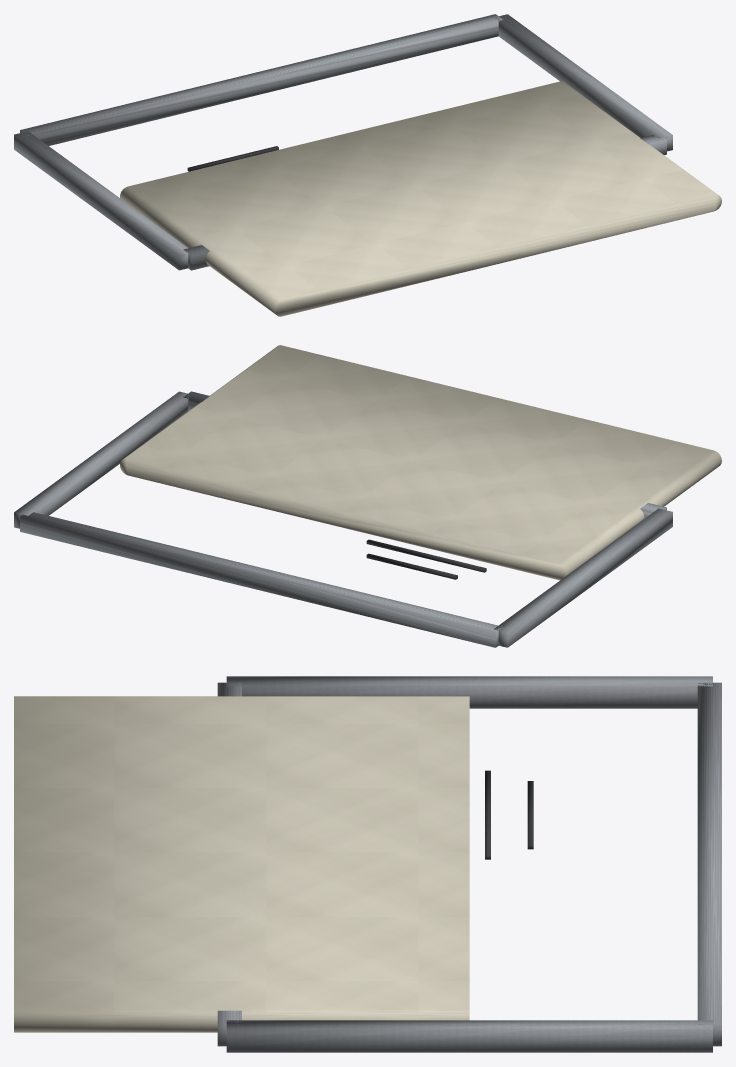
The model's file is MEETING_WHITEBOARD_WALL_001.glb.
3 renders of one model, top to bottom at view 1: azimuth 30°, elevation 25°; view 2: azimuth 150°, elevation 25°; view 3: azimuth 270°, elevation 25°, orthographic. The views are drawn at different scales.
Parts seen in each view (by area): view 1: whiteboard_000, bottom_frame_002, side_frame_003, side_frame_004, top_frame_001; view 2: whiteboard_000, bottom_frame_002, side_frame_003, side_frame_004, doodle_line_006, doodle_line_005; view 3: whiteboard_000, side_frame_004, side_frame_003, bottom_frame_002, top_frame_001.
Boxes of the visible parts, <box> form: whiteboard_000: <box>120,81,721,316</box>; bottom_frame_002: <box>20,14,503,145</box>; side_frame_003: <box>14,131,188,270</box>; side_frame_004: <box>496,14,672,151</box>; top_frame_001: <box>183,135,666,270</box>; whiteboard_000: <box>120,345,721,580</box>; bottom_frame_002: <box>20,512,502,647</box>; side_frame_003: <box>494,508,672,647</box>; side_frame_004: <box>14,391,190,528</box>; doodle_line_006: <box>366,539,486,572</box>; doodle_line_005: <box>366,553,457,579</box>; whiteboard_000: <box>14,696,469,1032</box>; side_frame_004: <box>226,1020,712,1052</box>; side_frame_003: <box>226,676,712,708</box>; bottom_frame_002: <box>697,682,721,1046</box>; top_frame_001: <box>217,682,241,1046</box>.
Size of the model in its own units: 1.38 by 0.0535 by 1.16.
3 materials, 3 textured.
